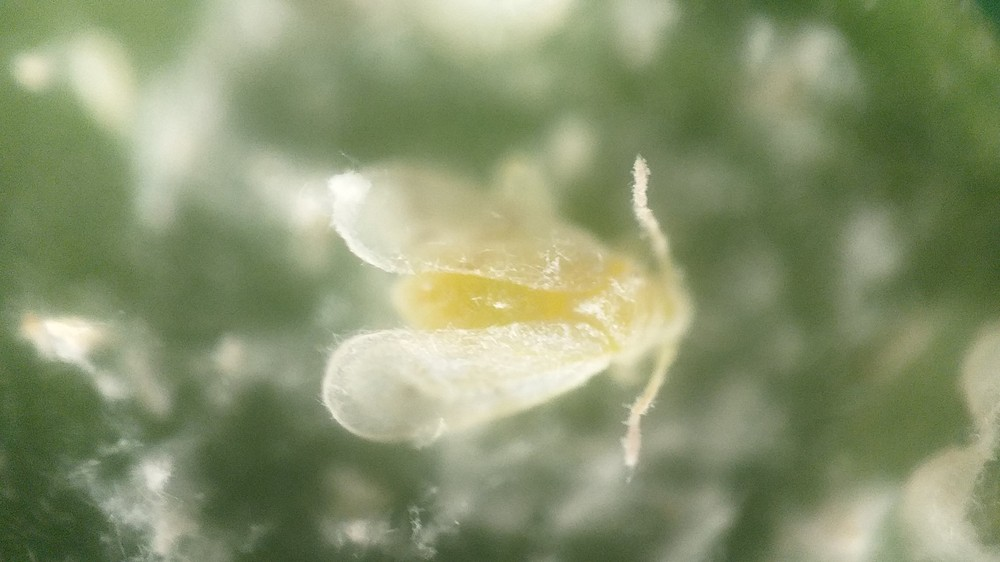Mosca Blanca: (310, 117, 711, 489)
